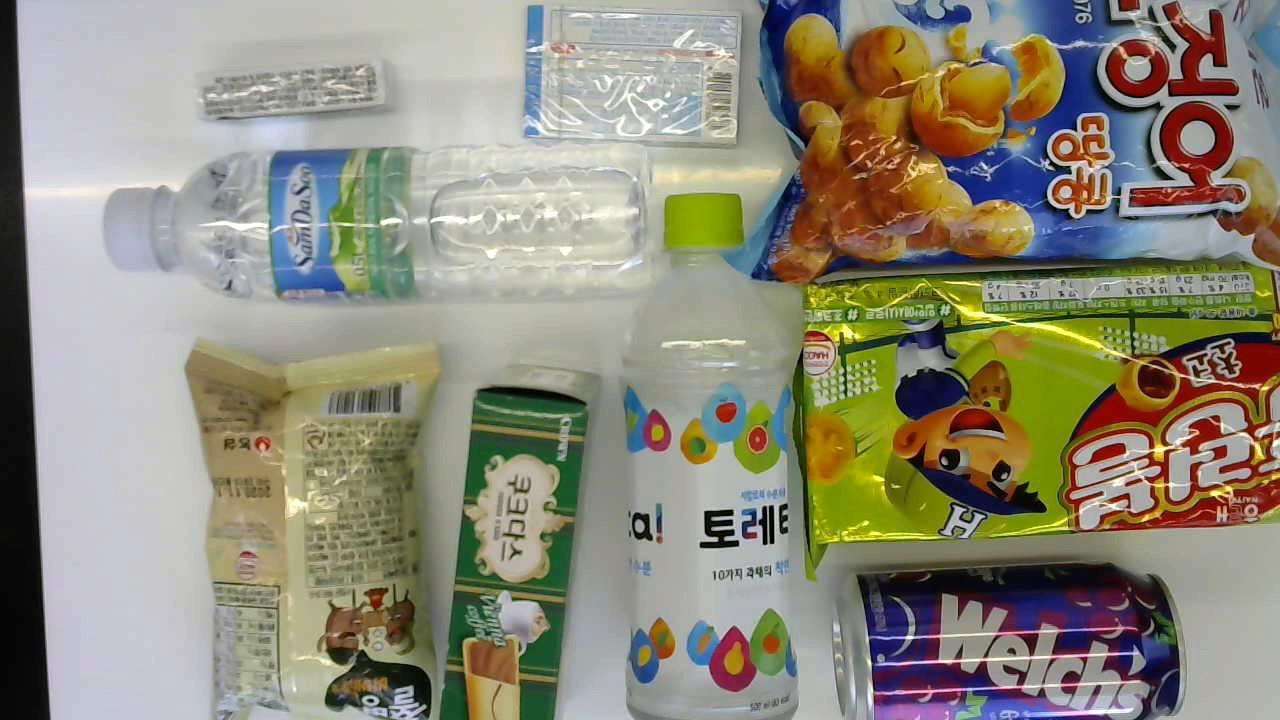ID_gum: (519, 1, 742, 146)
couque_coffee: (437, 367, 597, 720)
homerunball: (797, 263, 1280, 565)
jjolbyung_ori: (183, 332, 443, 720)
samdasu: (100, 150, 658, 299)
spearmint: (194, 59, 395, 123)
squid_peanut: (736, 0, 1270, 273)
toreta: (617, 194, 797, 720)
welchs: (825, 567, 1186, 719)
